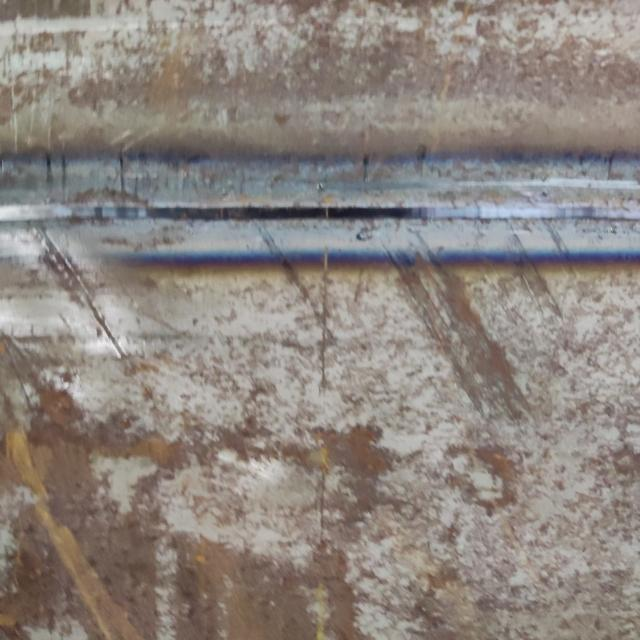seam: (0, 133, 640, 282)
